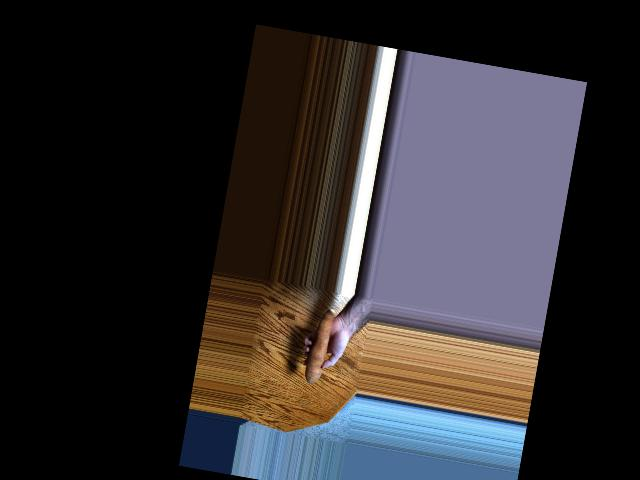sweet_potato: (297, 308, 333, 388)
